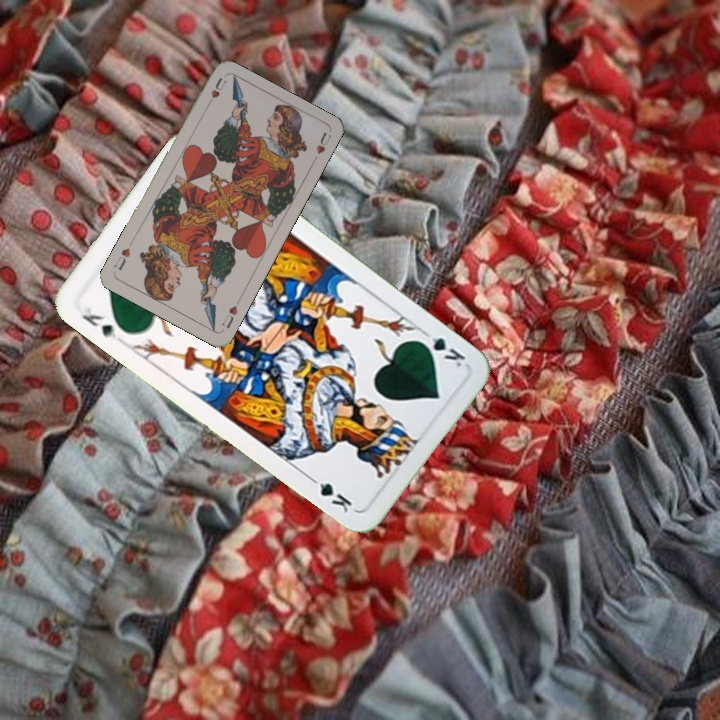GK: (413, 326, 468, 370), (77, 303, 120, 341)
HU: (202, 73, 229, 110), (218, 301, 240, 331)
